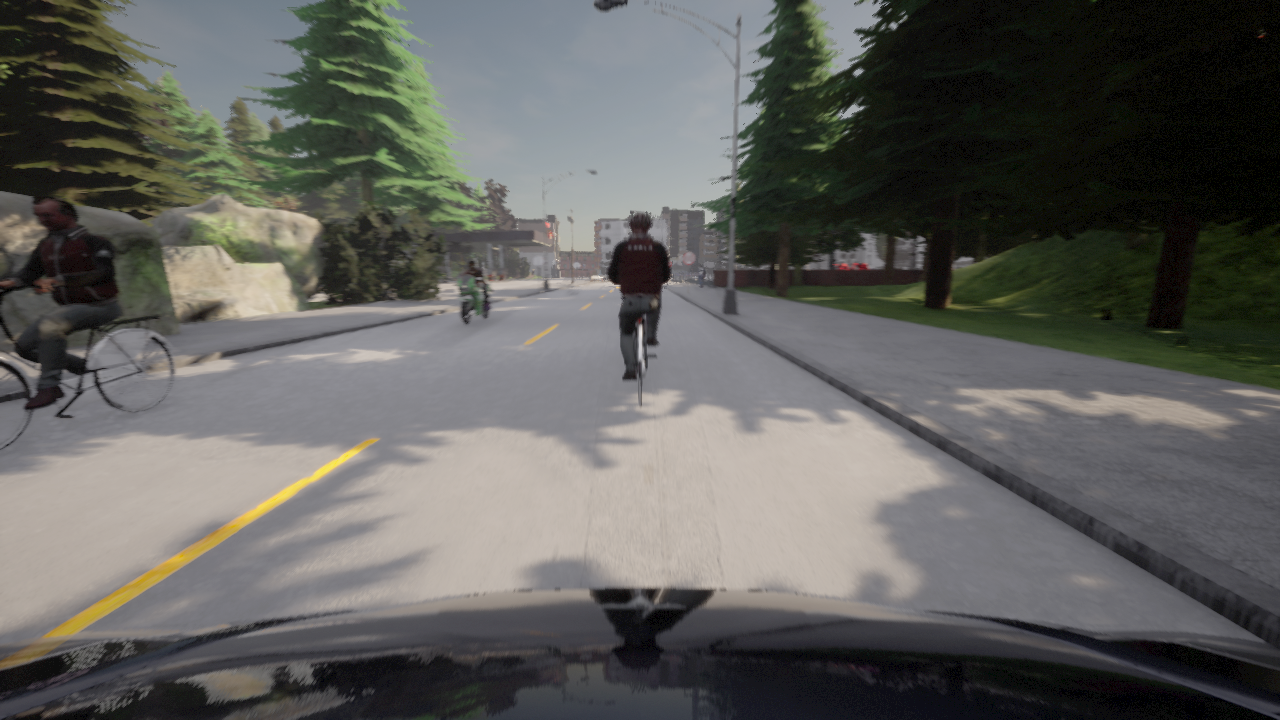cyclist: (0, 588, 1279, 719), (0, 284, 173, 451), (625, 316, 655, 406), (448, 275, 494, 325), (457, 271, 463, 280), (672, 272, 687, 275), (689, 273, 695, 275)
pedestrian: (698, 265, 703, 286), (696, 268, 699, 276)
